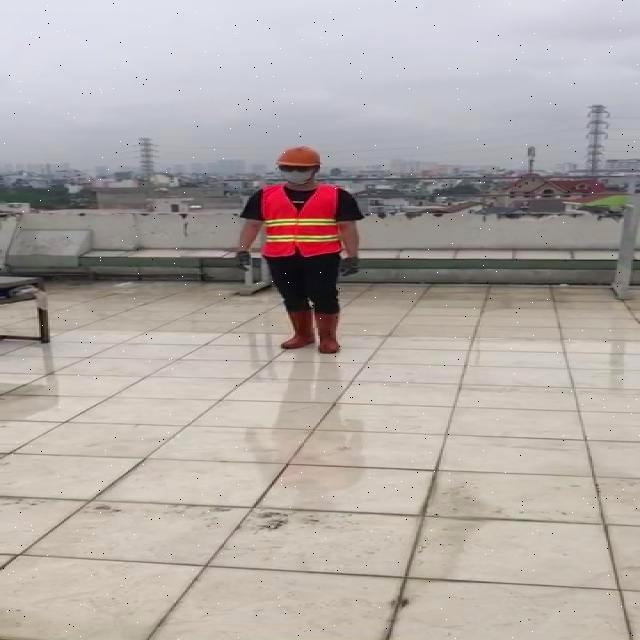Hard_hat: (273, 142, 327, 172)
Vest: (259, 183, 342, 262)
